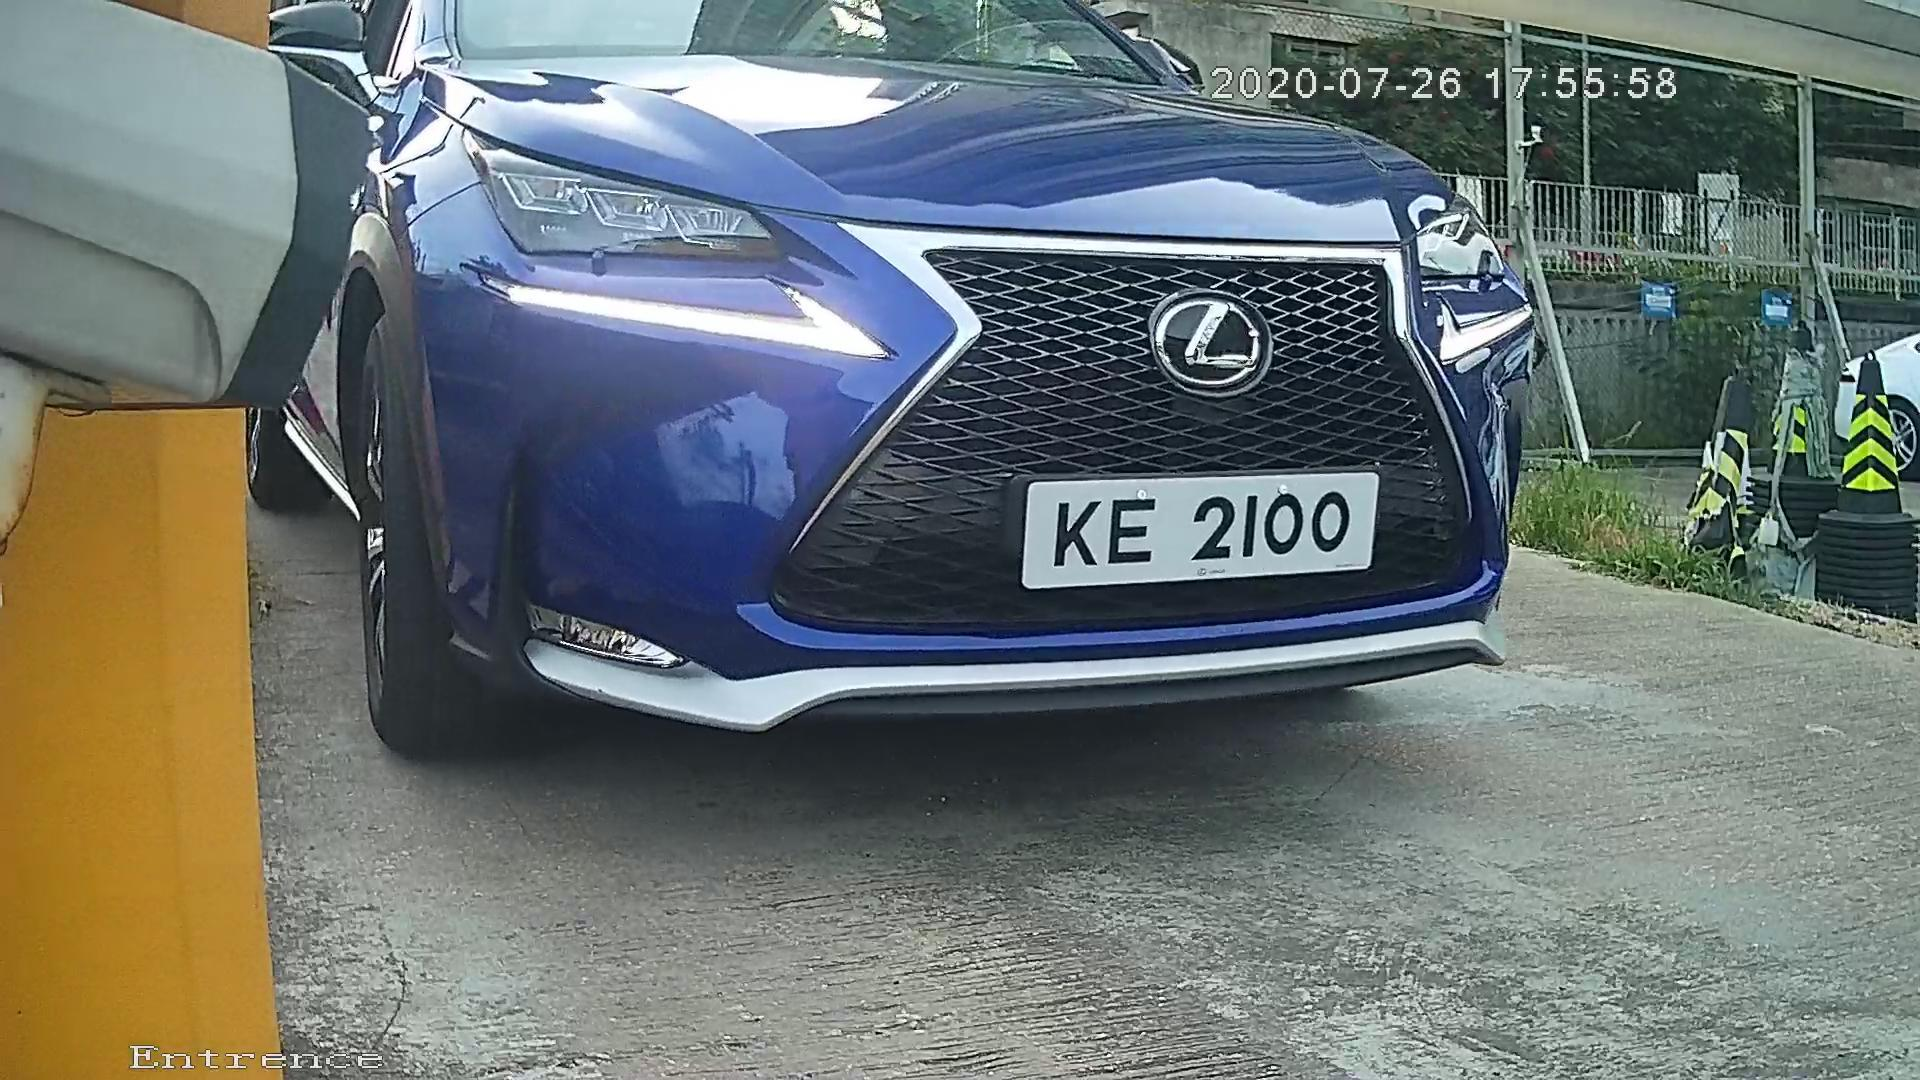Car: (198, 39, 1621, 806)
License Plate: (995, 454, 1389, 598)
